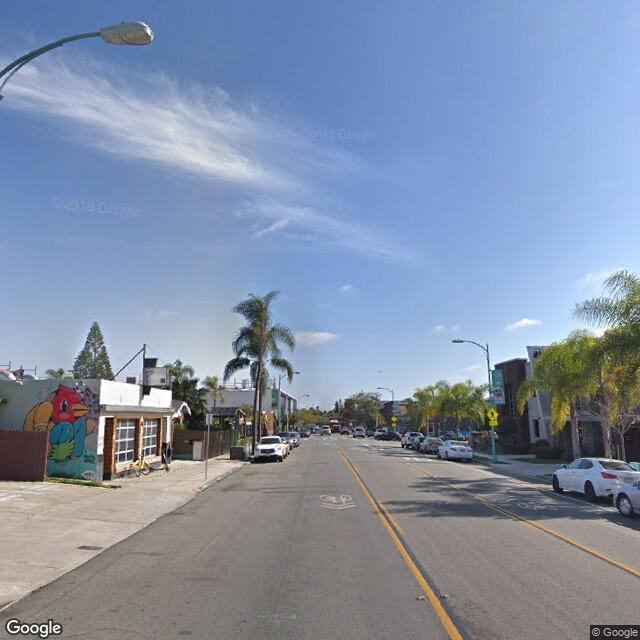light: (101, 19, 153, 50)
road line: (365, 498, 451, 601)
